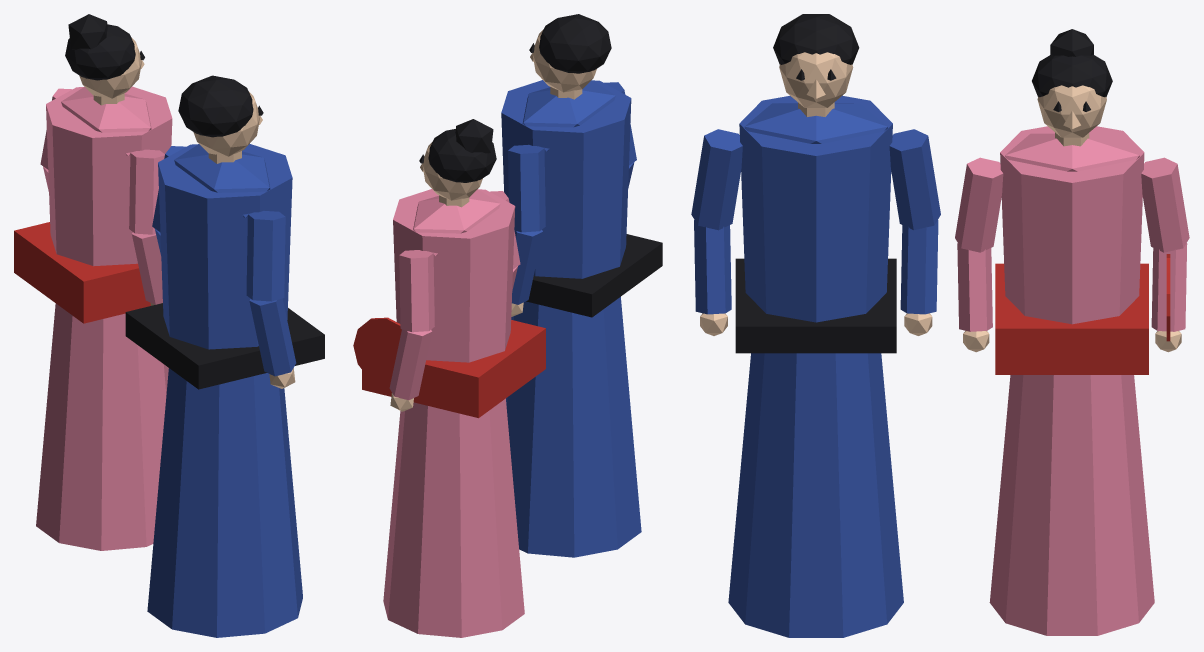
The model's file is yukatapar.glb.
3 views of the same model, side by side, from view 1: azimuth 30°, elevation 25°; view 2: azimuth 150°, elevation 25°; view 3: azimuth 270°, elevation 25° (orthographic). The views are drawn at different scales.
Visible parts, largest first — view 1: yukatapar; view 2: yukatapar; view 3: yukatapar.
Boxes of the visible parts, x1,y1,x2,y2 form: yukatapar: (14, 14, 324, 637); yukatapar: (353, 14, 662, 637); yukatapar: (691, 14, 1189, 637).
Size of the model in its own units: 0.4565 by 1.76 by 1.36.
